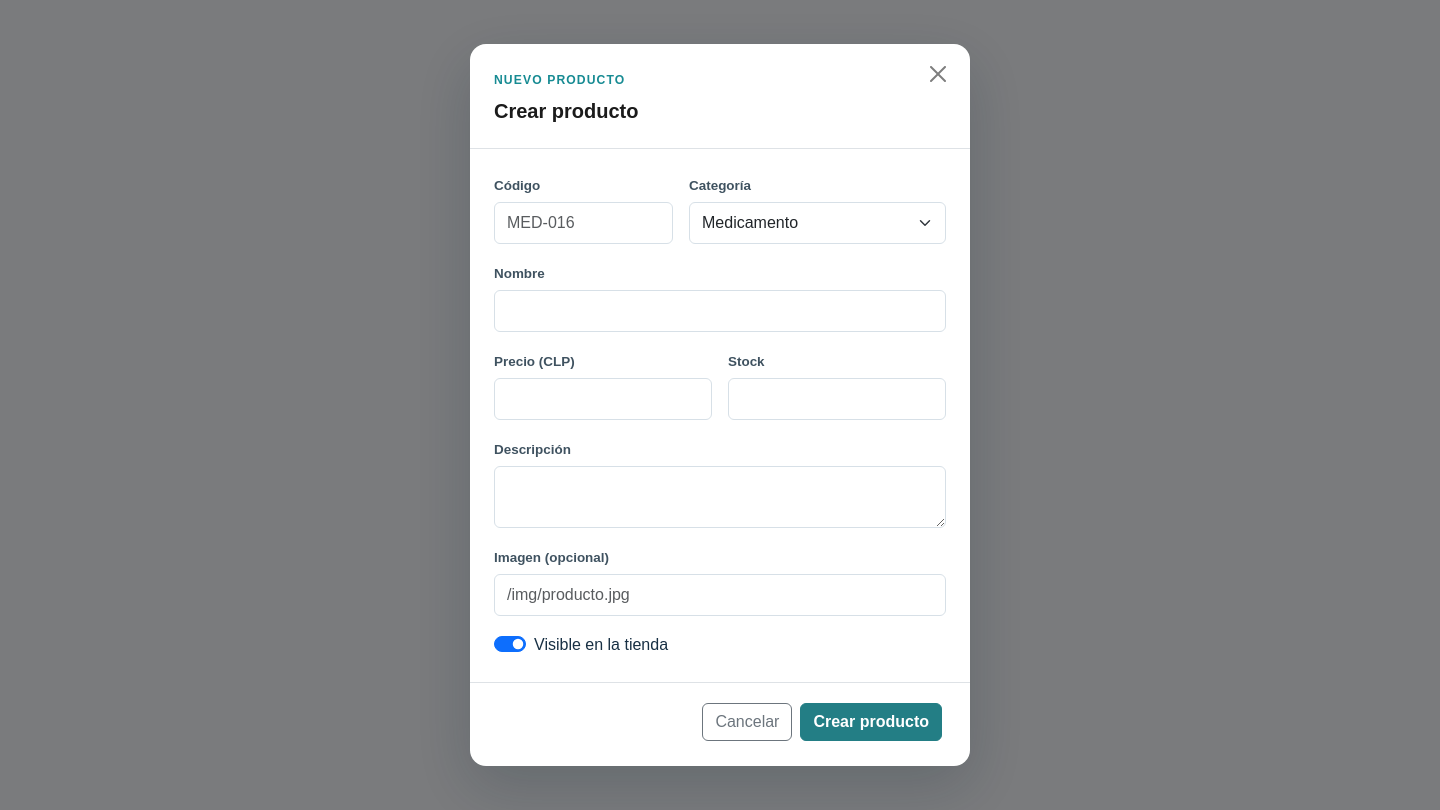
Test: FormularioProducto › rechaza un código con caracteres no permitidos, un precio en cero y un stock negativo
This screenshot has width=1440, height=810.
Type "MED 016!" into the field labelled "Código". click: (584, 223)
box: 494,202 -> 673,244
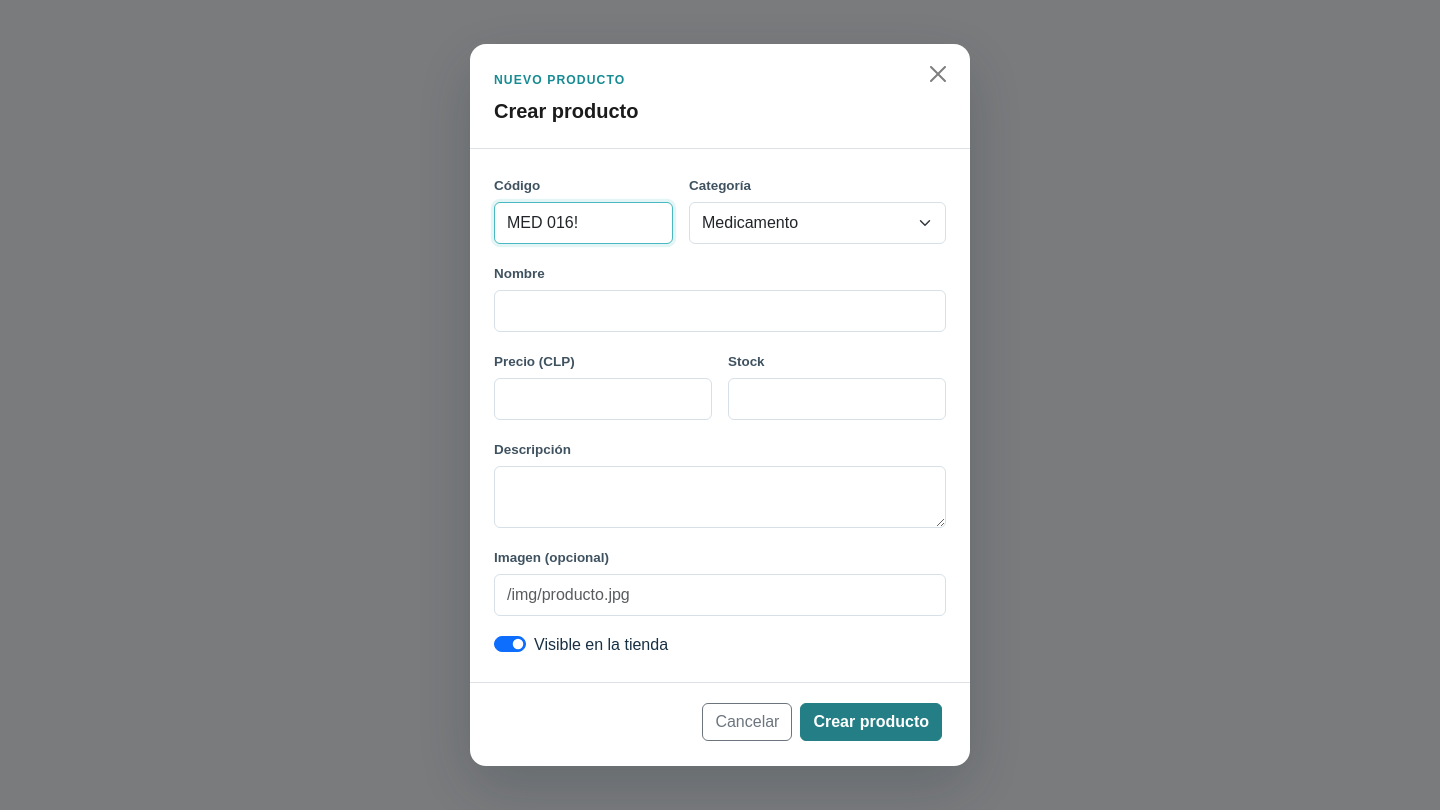
Type "Producto de prueba" into the field labelled "Nombre". click: (720, 311)
box: 494,290 -> 946,332
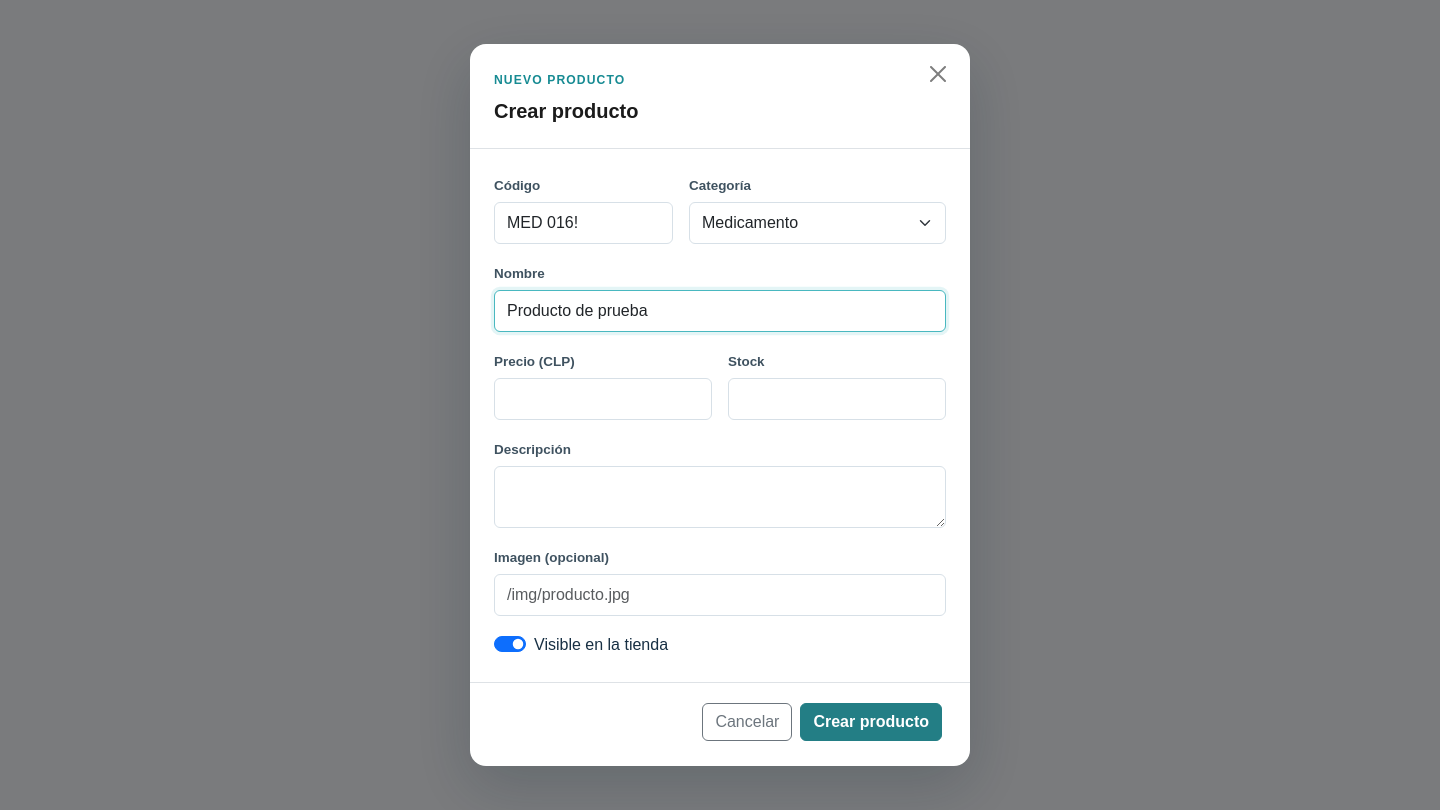
Type "0" into the number field labelled "Precio (CLP)". click: (603, 399)
box: 494,378 -> 712,420
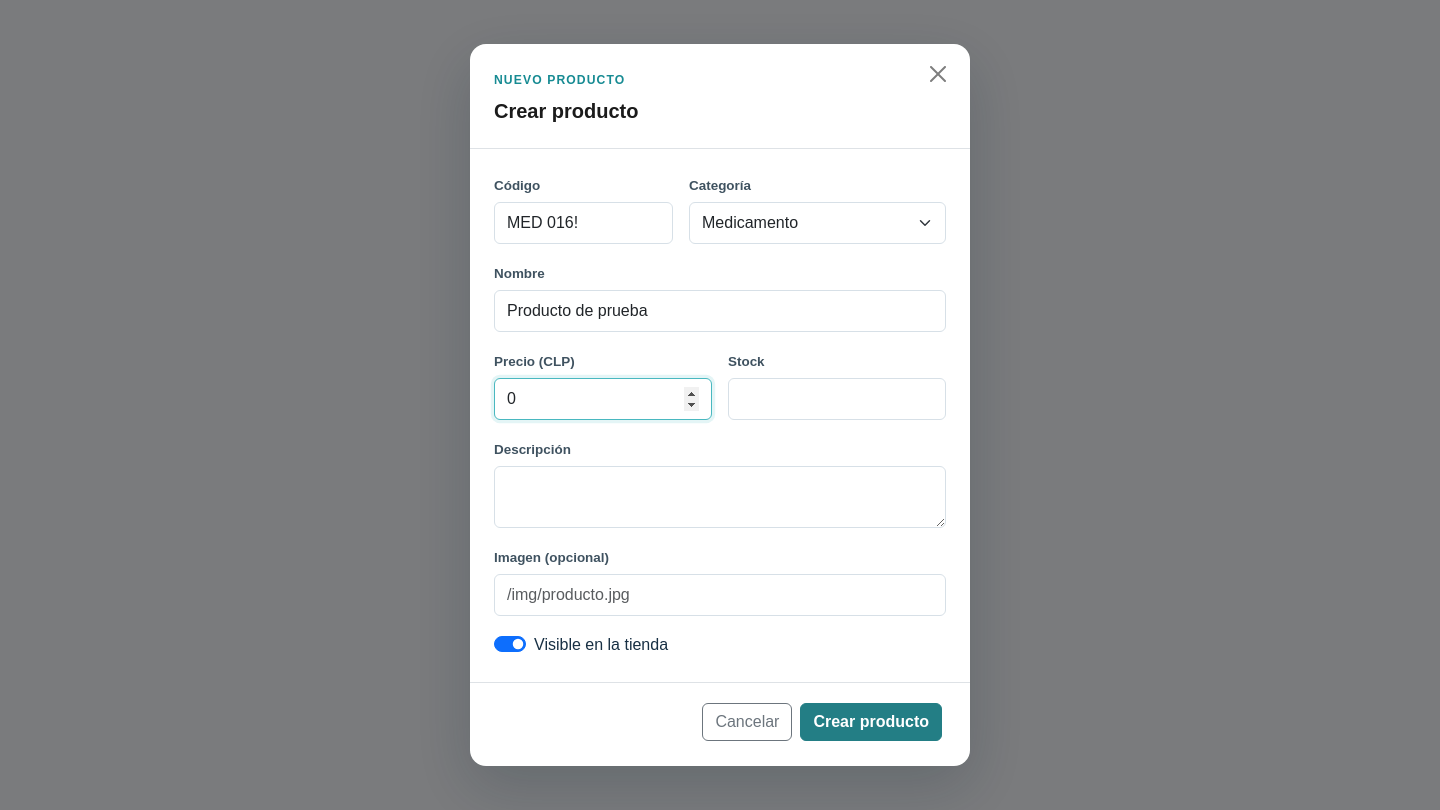
Type "-1" into the number field labelled "Stock". click: (837, 399)
box: 728,378 -> 946,420
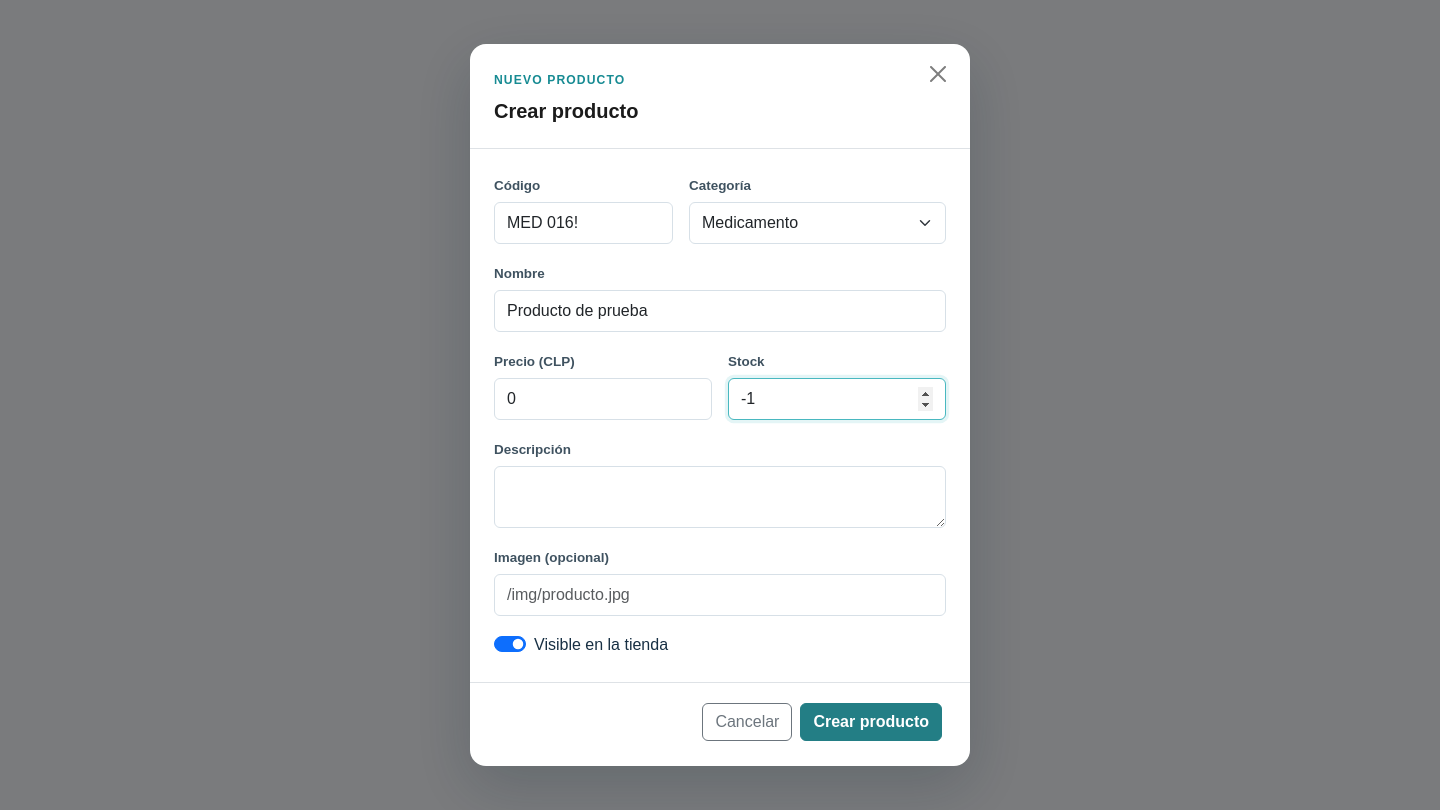
Click the button "Crear producto". click: (871, 722)
box: 800,703 -> 942,741
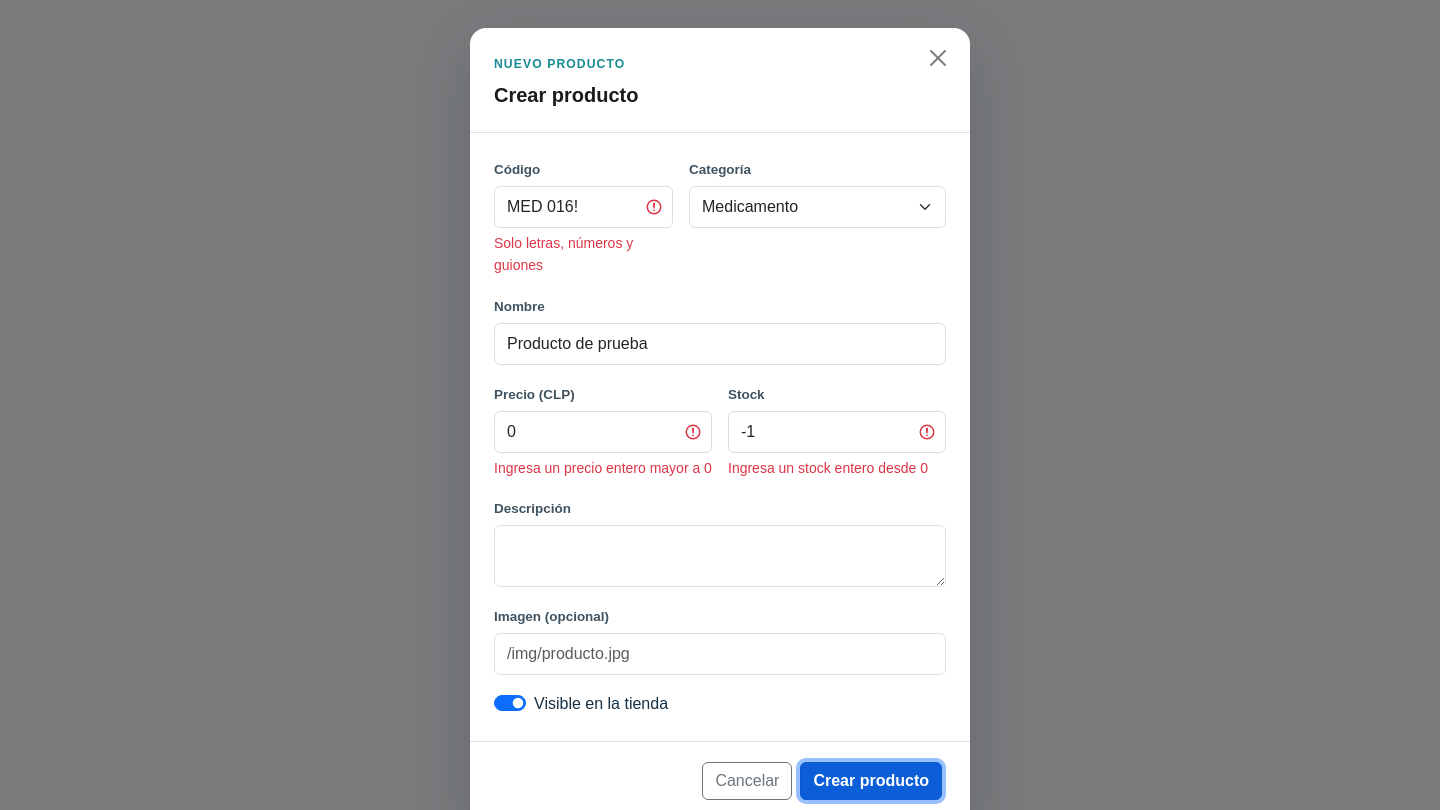
Now the text "Solo letras, números y guiones" is shown, box 494,235 -> 633,273
Now the text "Ingresa un precio entero mayor a 0" is shown, box 494,457 -> 712,479
Now the text "Ingresa un stock entero desde 0" is shown, box 728,457 -> 946,479
